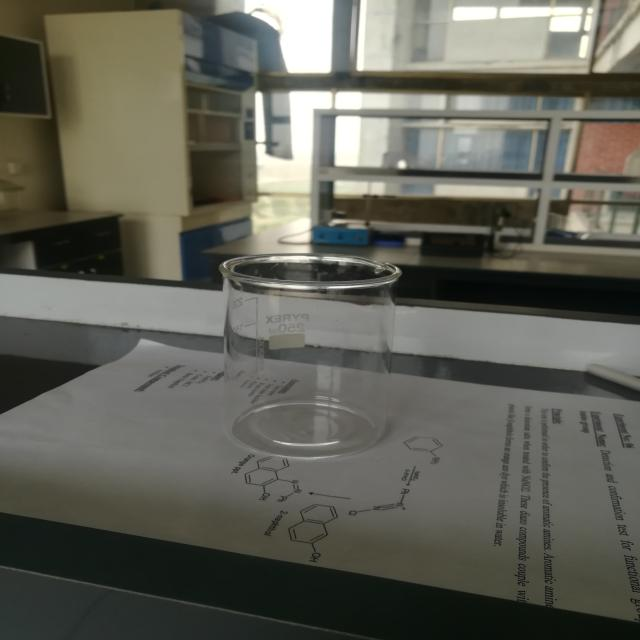Beaker: (175, 224, 435, 490)
